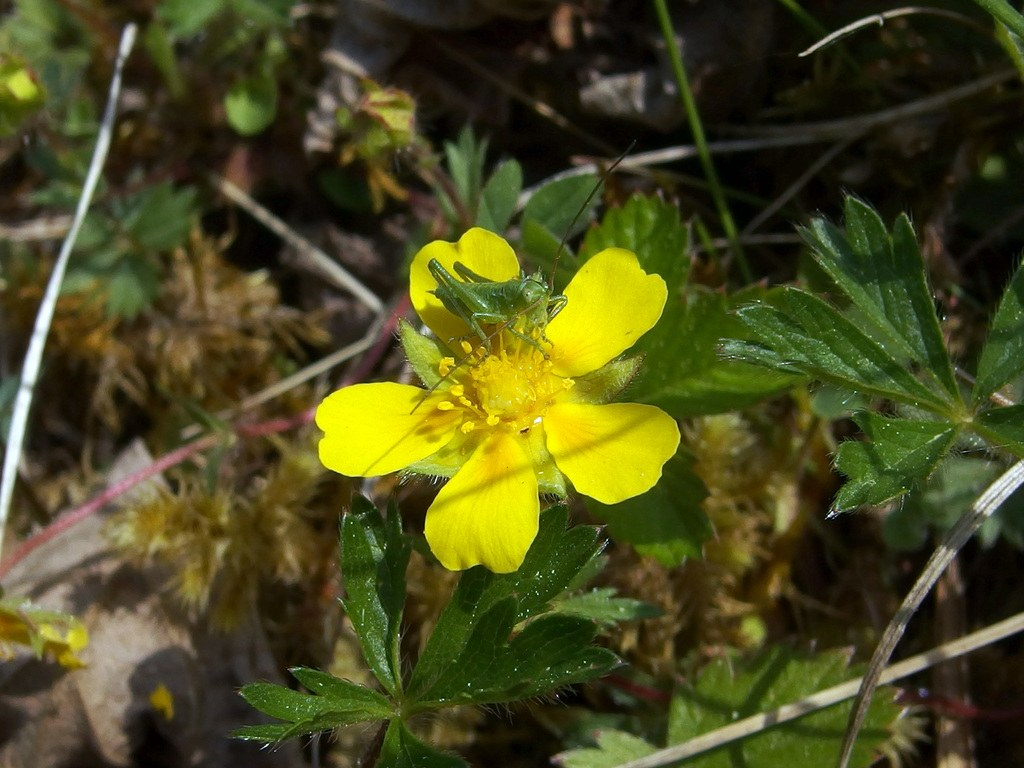insect: (330, 211, 688, 573), (410, 145, 639, 412)
